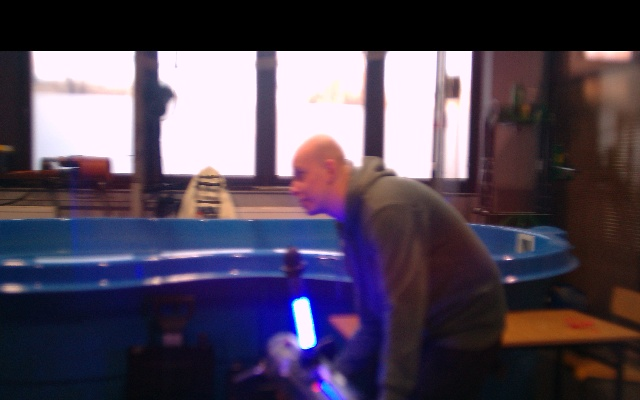blue: (292, 296, 317, 350)
